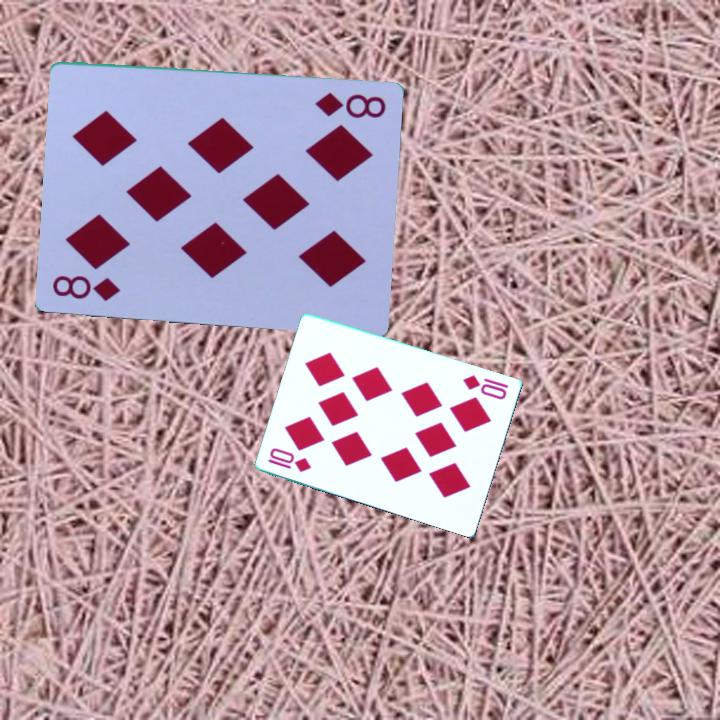10d: (460, 371, 512, 402), (265, 444, 315, 475)
8d: (312, 88, 389, 121), (50, 271, 124, 303)
